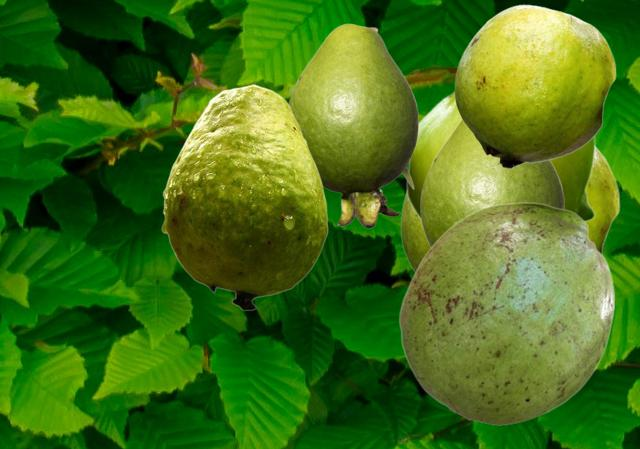guava: (398, 202, 614, 424), (161, 84, 327, 310), (400, 146, 619, 273), (454, 4, 615, 168), (288, 23, 417, 227), (405, 91, 595, 222), (420, 120, 563, 246)
